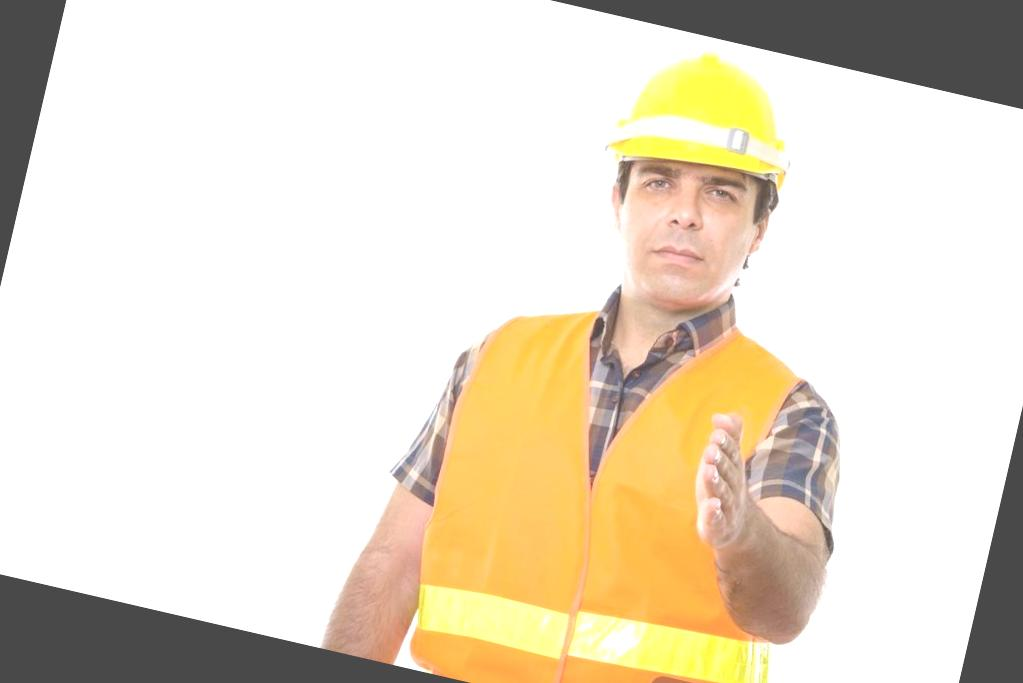helmet: (602, 38, 800, 204)
person: (350, 0, 949, 683)
